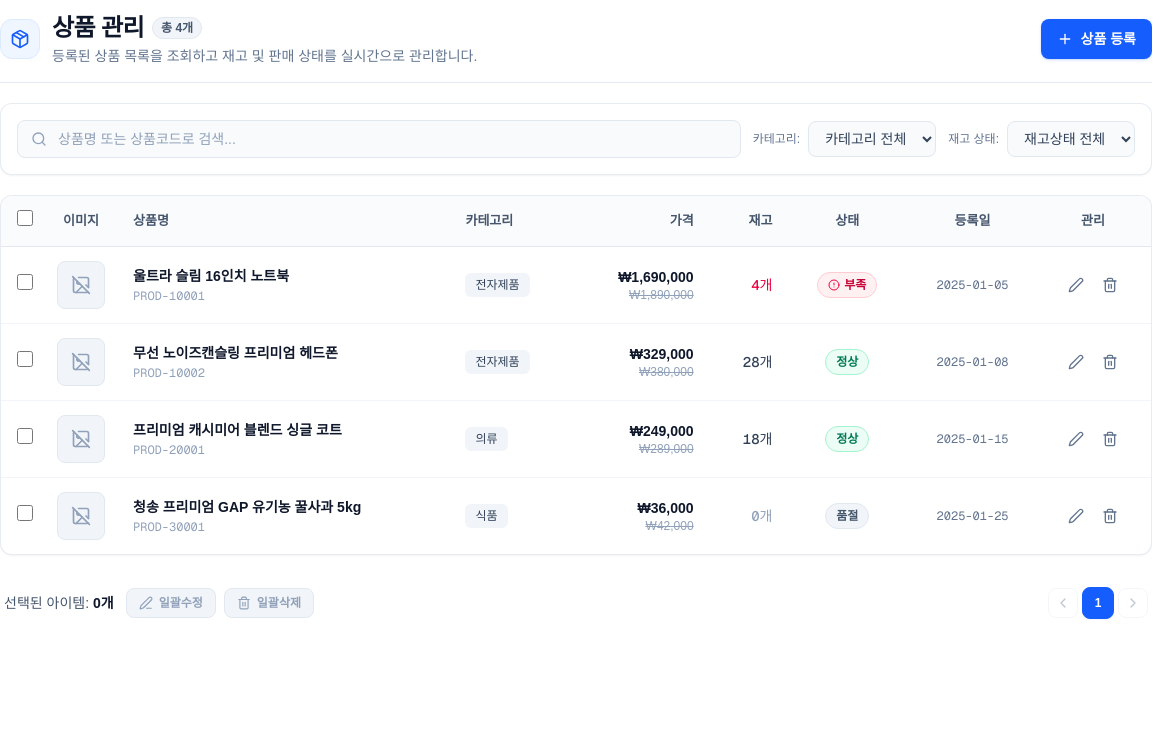
Test: ProductView Component (Integration/Presentation Test) › 체크박스 전체 선택 및 개별 선택 시 선택된 아이템 개수가 실시간 반영된다
Expected: the text "선택된 아이템: 0개" is shown, [4, 592, 114, 612]
// 전체 선택 체크박스 클릭
Click the checkbox named "전체 선택" at point(25, 218), box [17, 210, 33, 226]
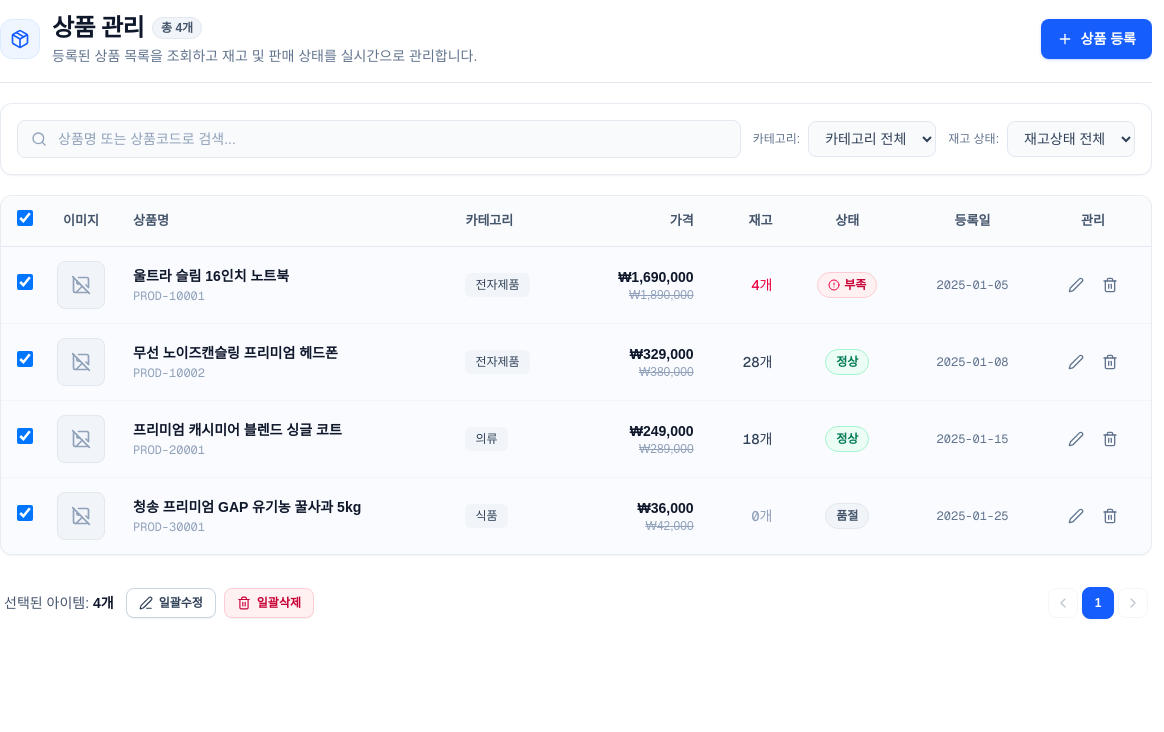
Expected: the text "선택된 아이템: 4개" is shown, [4, 592, 114, 612]
Expected: the button "일괄삭제" is enabled
Click the button "일괄삭제" at point(269, 602), box [224, 588, 314, 618]
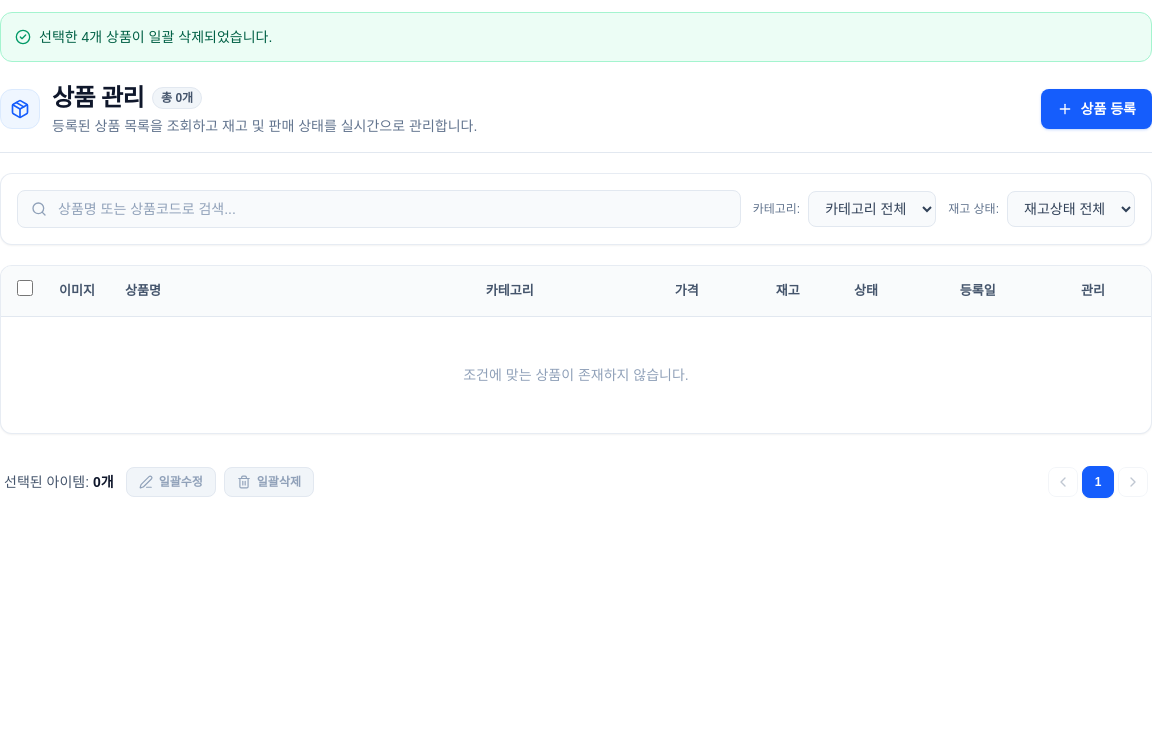
Expected: the text "조건에 맞는 상품이 존재하지 않습니다." is shown, [1, 316, 1151, 432]
Expected: the text "선택된 아이템: 0개" is shown, [4, 472, 114, 492]
